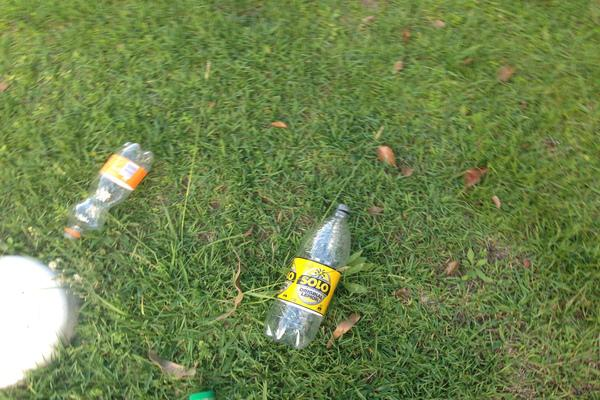Plastic Bottle: (265, 203, 351, 348), (64, 142, 153, 237)
